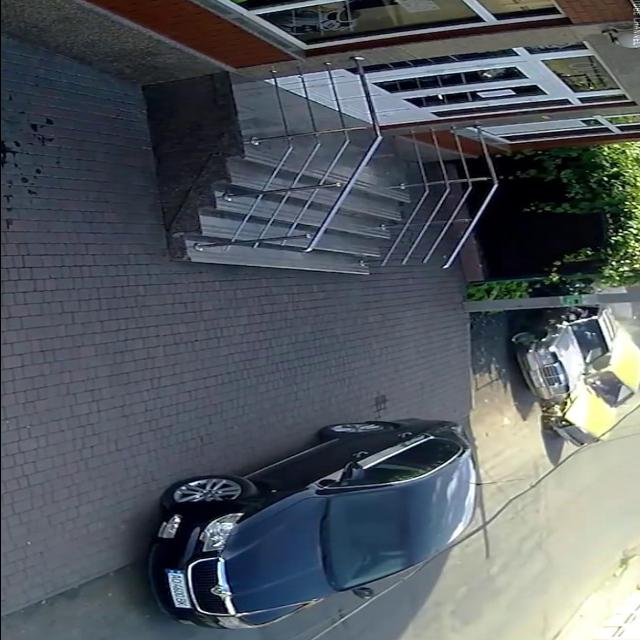accident: (521, 303, 640, 447)
